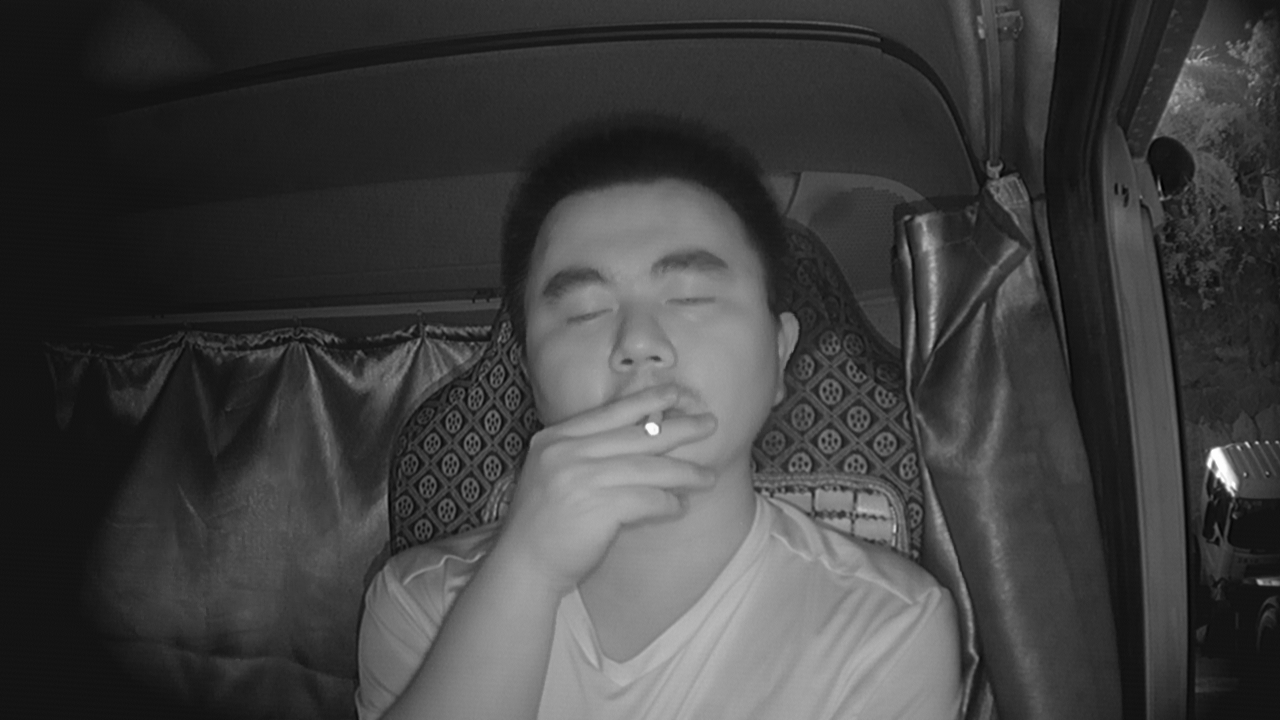hand: (553, 375, 716, 535)
